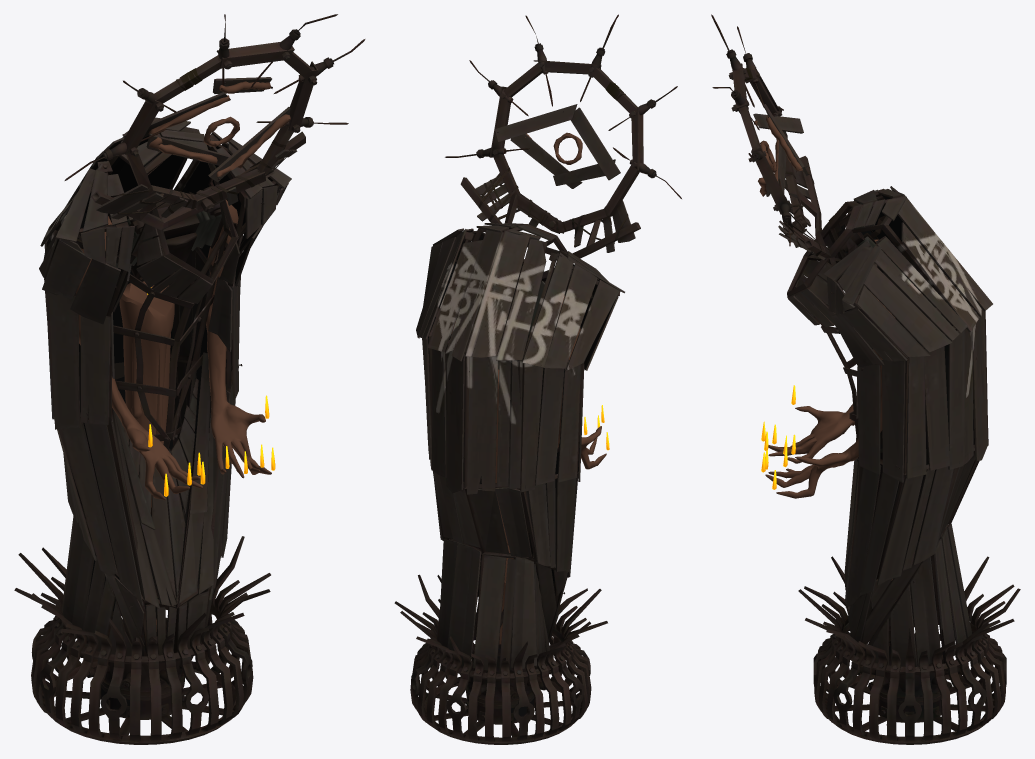
The model's file is Amber_Base_Guardian.glb.
3 views of the same model, side by side, from view 1: azimuth 30°, elevation 25°; view 2: azimuth 150°, elevation 25°; view 3: azimuth 270°, elevation 25° (orthographic). The views are drawn at different scales.
Parts seen in each view (by area): view 1: models\props_endgame\t3_watcher\t3_watcher_amber.vmdl_c.t3_w; view 2: models\props_endgame\t3_watcher\t3_watcher_amber.vmdl_c.t3_w; view 3: models\props_endgame\t3_watcher\t3_watcher_amber.vmdl_c.t3_w.
Part boxes in pixels (bbox=[...]): models\props_endgame\t3_watcher\t3_watcher_amber.vmdl_c.t3_w: bbox=[14, 14, 365, 744]; models\props_endgame\t3_watcher\t3_watcher_amber.vmdl_c.t3_w: bbox=[394, 14, 681, 744]; models\props_endgame\t3_watcher\t3_watcher_amber.vmdl_c.t3_w: bbox=[711, 14, 1020, 744].
Bounding box in the file's own units: 4.72 × 12.22 × 5.02.
Materials: 4 (1 with a texture image).
